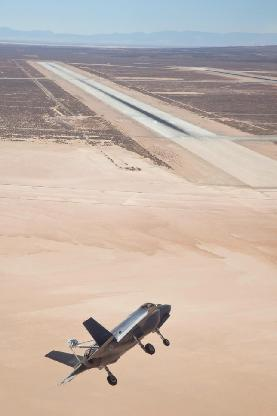F22: (43, 302, 170, 388)
